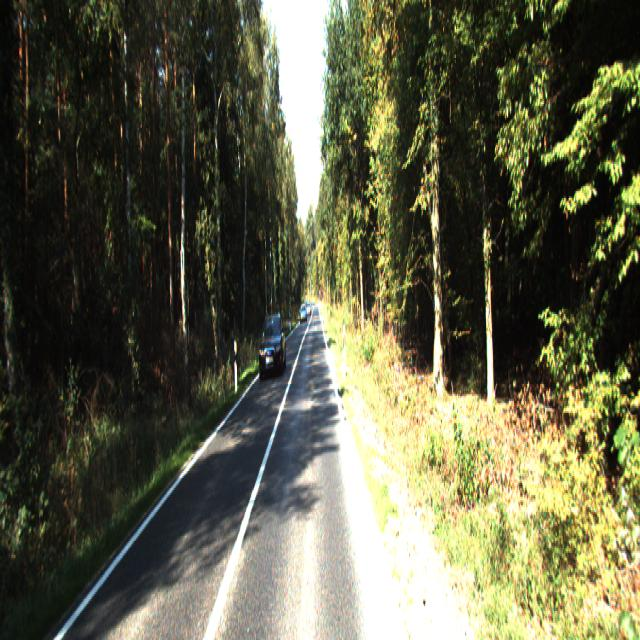Car: (259, 312, 286, 380)
DontCare: (299, 304, 310, 320)
